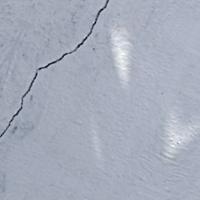crack: (0, 0, 119, 157)
